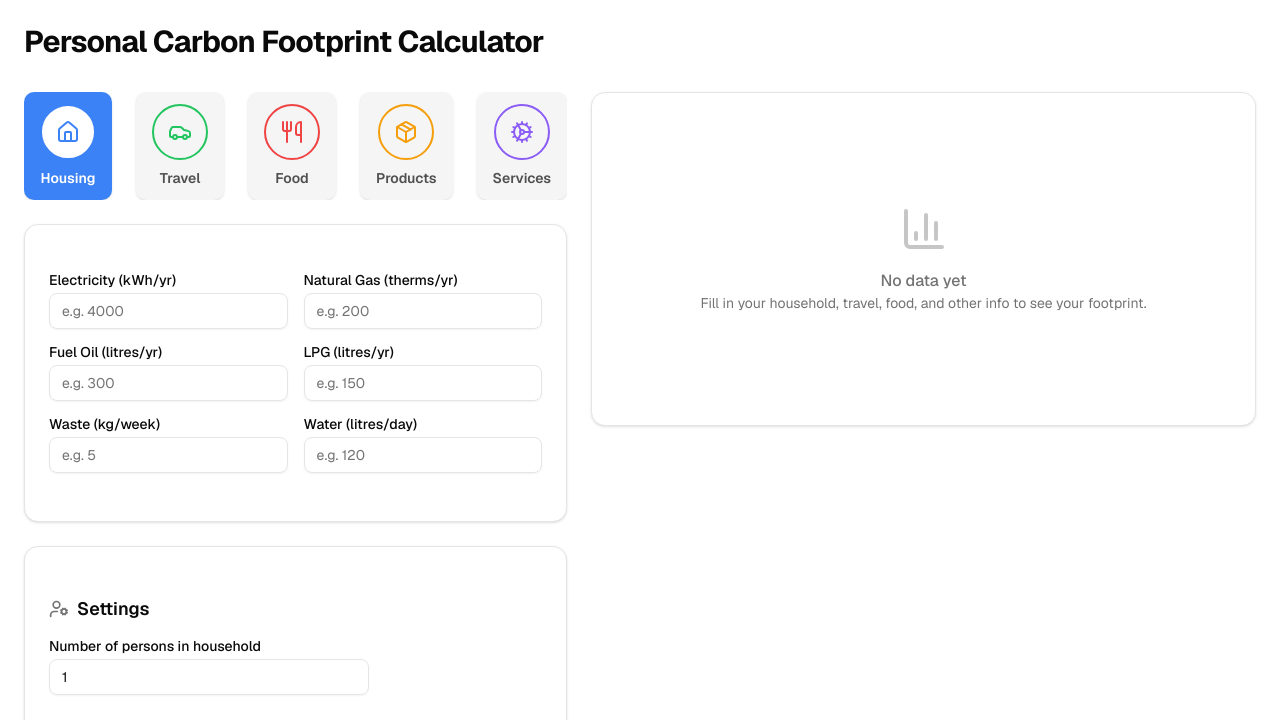
Test case: HomePage › switches to Travel step when clicked
The width and height of the screenshot is (1280, 720).
Click the button "Travel".
click(180, 146)  # box top-left (136, 92), bottom-right (224, 200)
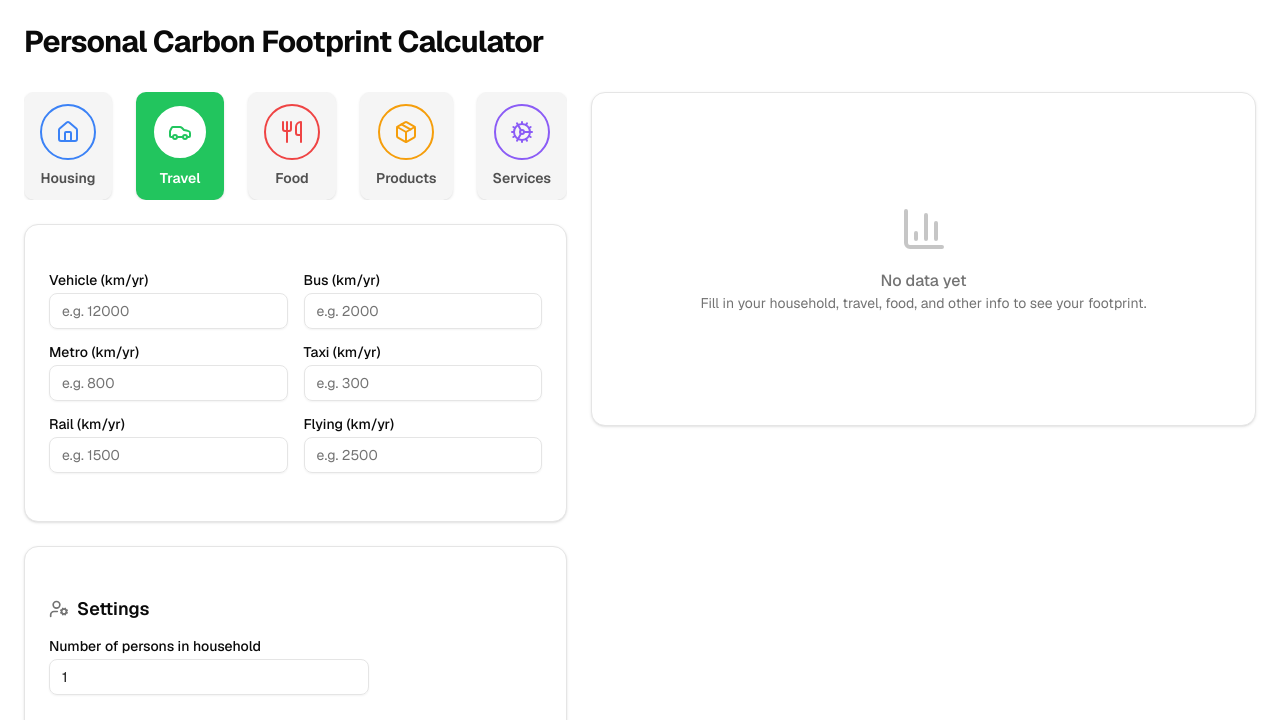
Expected: the number field labelled "Vehicle (km/yr)" is shown, top-left (49, 293), bottom-right (288, 329)
